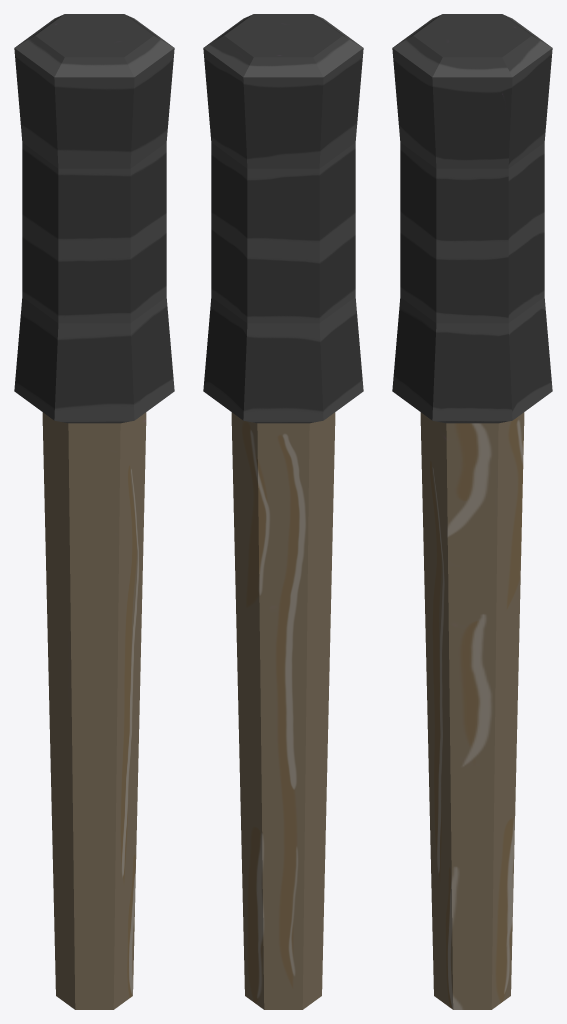
The model's file is PMTorch.fbx.
3 renders of one model, left to right at view 1: azimuth 30°, elevation 25°; view 2: azimuth 150°, elevation 25°; view 3: azimuth 270°, elevation 25°, orthographic.
Parts seen in each view (by area): view 1: Cylinder; view 2: Cylinder; view 3: Cylinder.
Boxes of the visible parts, x1,y1,x2,y2 form: Cylinder: (14,14,174,1009); Cylinder: (203,14,363,1009); Cylinder: (392,14,552,1009).
Bounding box in the file's own units: 19.72 × 150 × 22.77.
